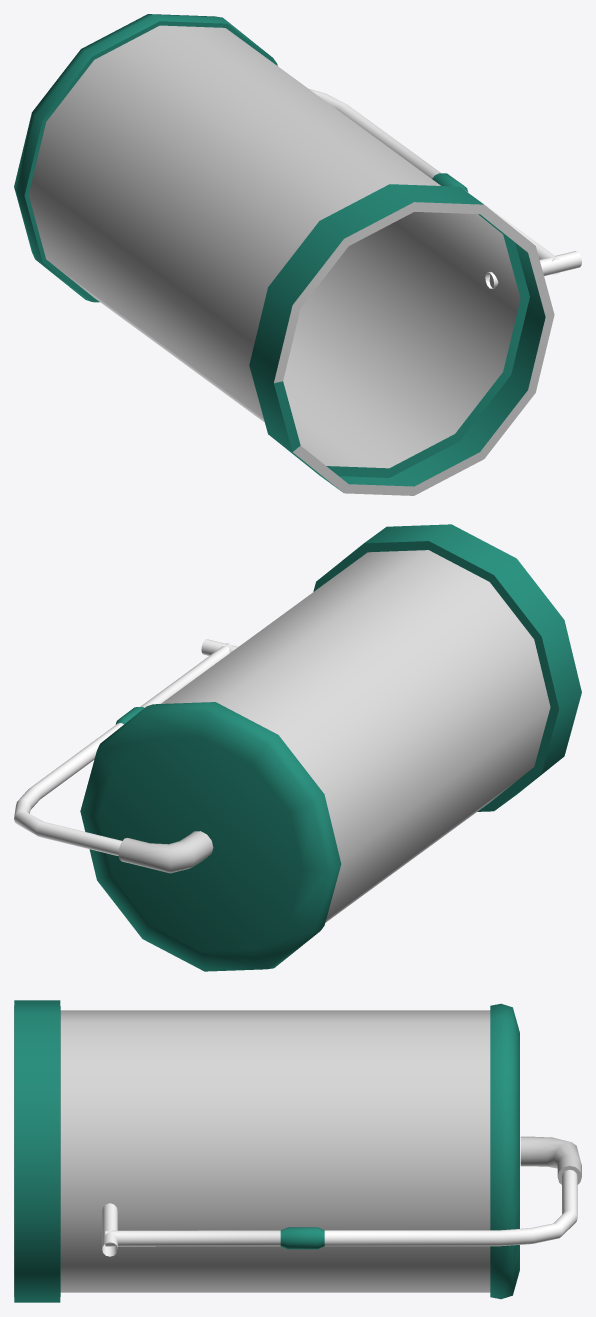
The picture shows the model from 3 angles, top to bottom: view 1: azimuth 30°, elevation 25°; view 2: azimuth 150°, elevation 25°; view 3: azimuth 270°, elevation 25°; orthographic projection. The views are drawn at different scales.
Visible parts, largest first — view 1: Circle; view 2: Circle; view 3: Circle.
Part boxes in pixels (left/top/right/bottom): Circle: left=14, top=14, right=581, bottom=495; Circle: left=14, top=524, right=581, bottom=971; Circle: left=14, top=1000, right=581, bottom=1302.
Size of the model in its own units: 50.09 by 39.62 by 74.14.
